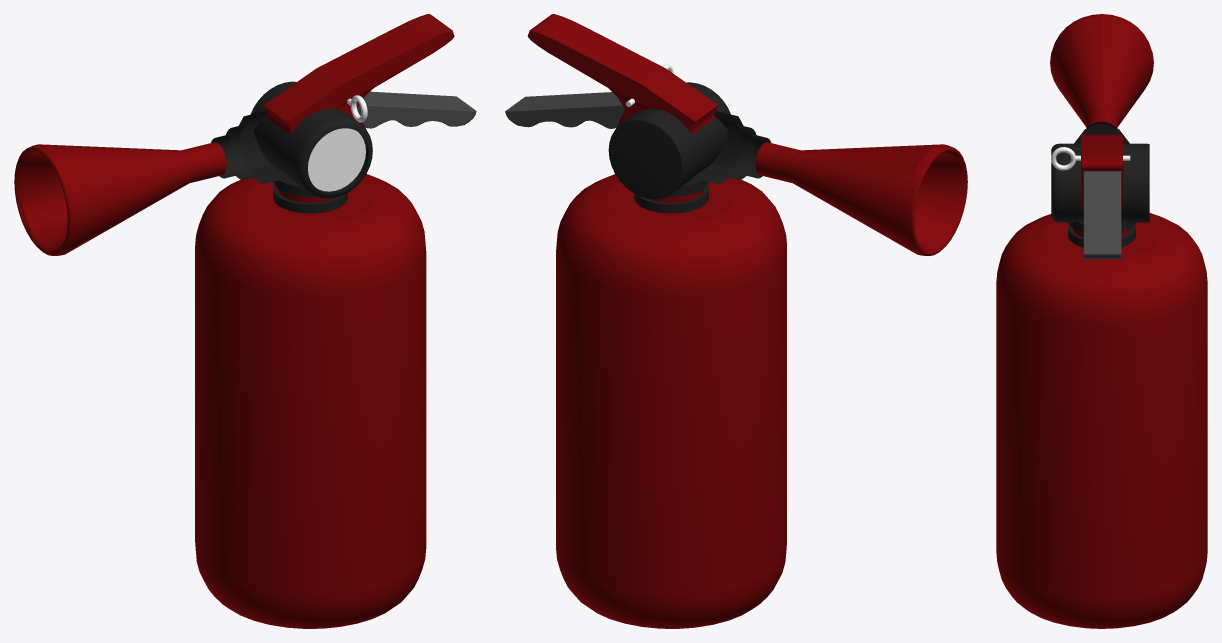
Rendered from extinguisher.fbx.
3 renders of one model, left to right at view 1: azimuth 30°, elevation 25°; view 2: azimuth 150°, elevation 25°; view 3: azimuth 270°, elevation 25°, orthographic. The views are drawn at different scales.
Parts seen in each view (by area): view 1: extinguisher, Handle, Lever, window; view 2: extinguisher, Handle, Lever; view 3: extinguisher, Lever, Handle, Torus.
Part boxes in pixels (left/top/right/bottom): extinguisher: left=14, top=81, right=426, bottom=628; Handle: left=264, top=14, right=454, bottom=134; Lever: left=357, top=91, right=476, bottom=128; window: left=308, top=128, right=365, bottom=191; extinguisher: left=556, top=82, right=967, bottom=628; Handle: left=527, top=14, right=717, bottom=134; Lever: left=505, top=92, right=624, bottom=128; extinguisher: left=996, top=14, right=1207, bottom=628; Lever: left=1083, top=171, right=1121, bottom=259; Handle: left=1081, top=134, right=1123, bottom=208; Torus: left=1051, top=147, right=1130, bottom=170.
Size of the model in its own units: 424 by 515 by 200.
